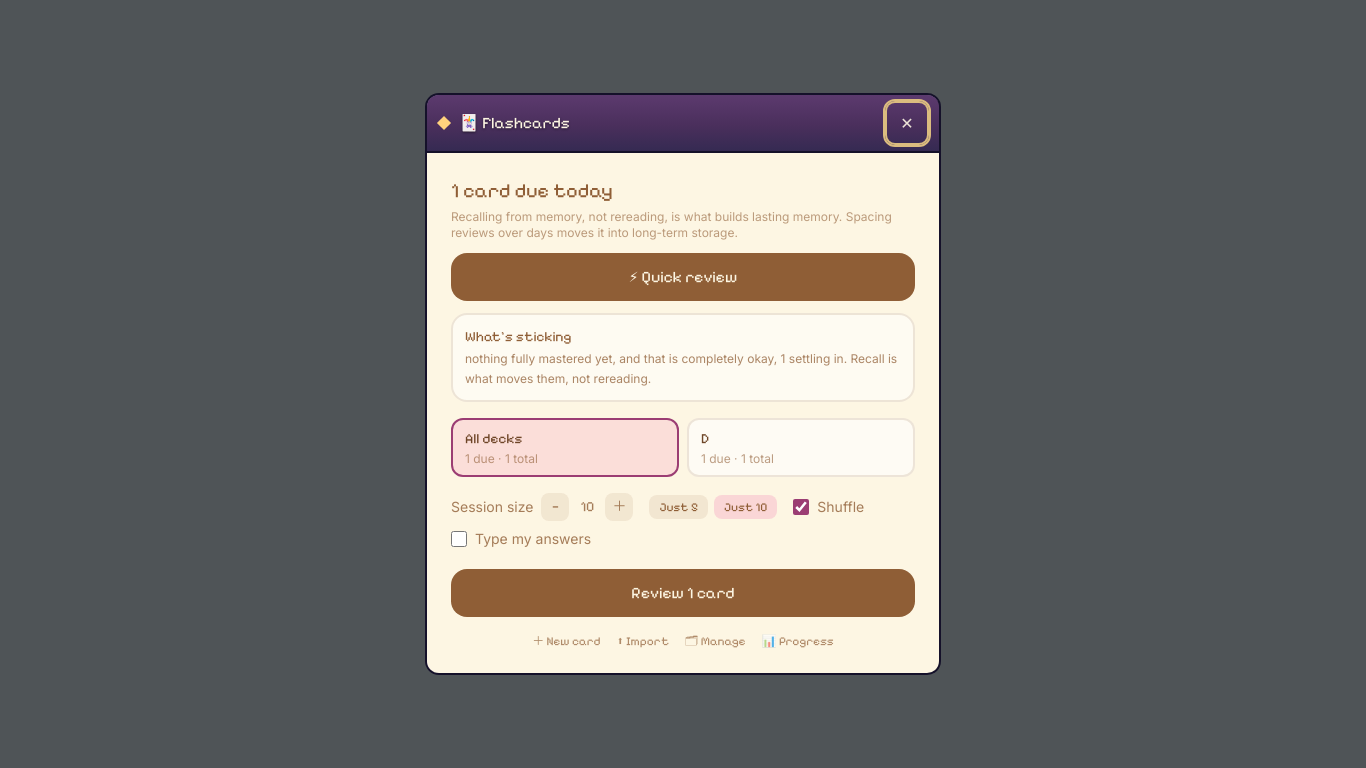
Test: Flashcards — typed recall + cloze (recall depth) › a wrong typed answer is marked wrong (honestly) and reveals the answer
Click the checkbox labelled "Type my answers" at (459,539), box x1=451 y1=531 x2=467 y2=547
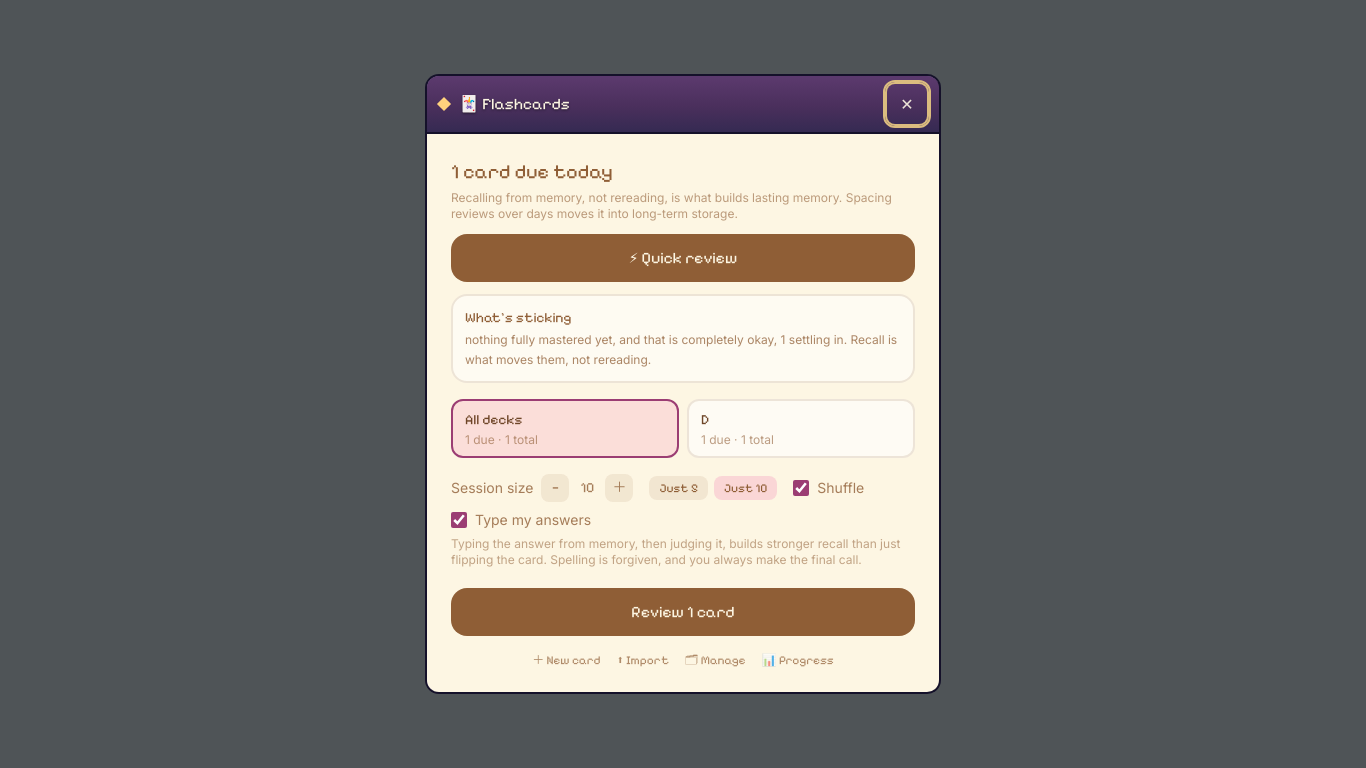
Click the checkbox labelled "Shuffle" at (801,488), box x1=793 y1=480 x2=809 y2=496
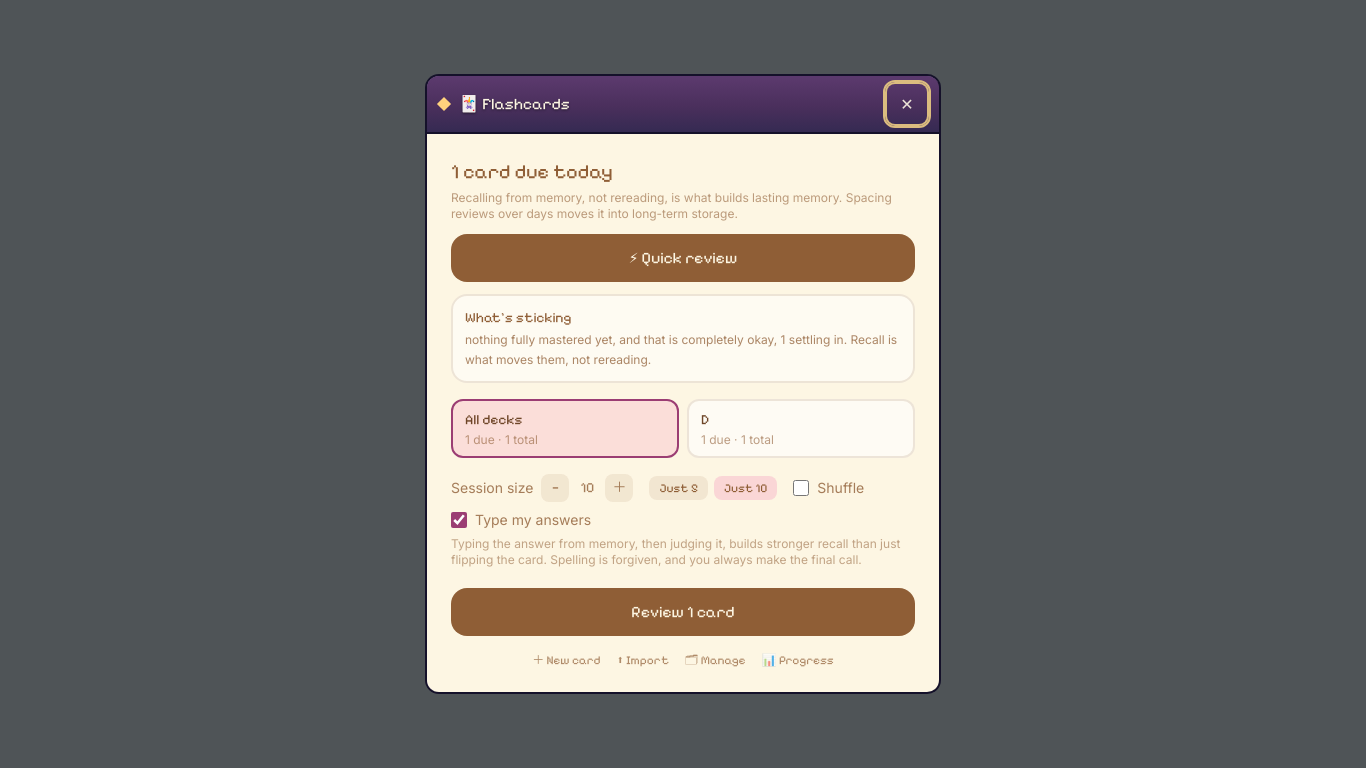
Click the button "Review 1 card" at (683,612), box x1=451 y1=588 x2=915 y2=636
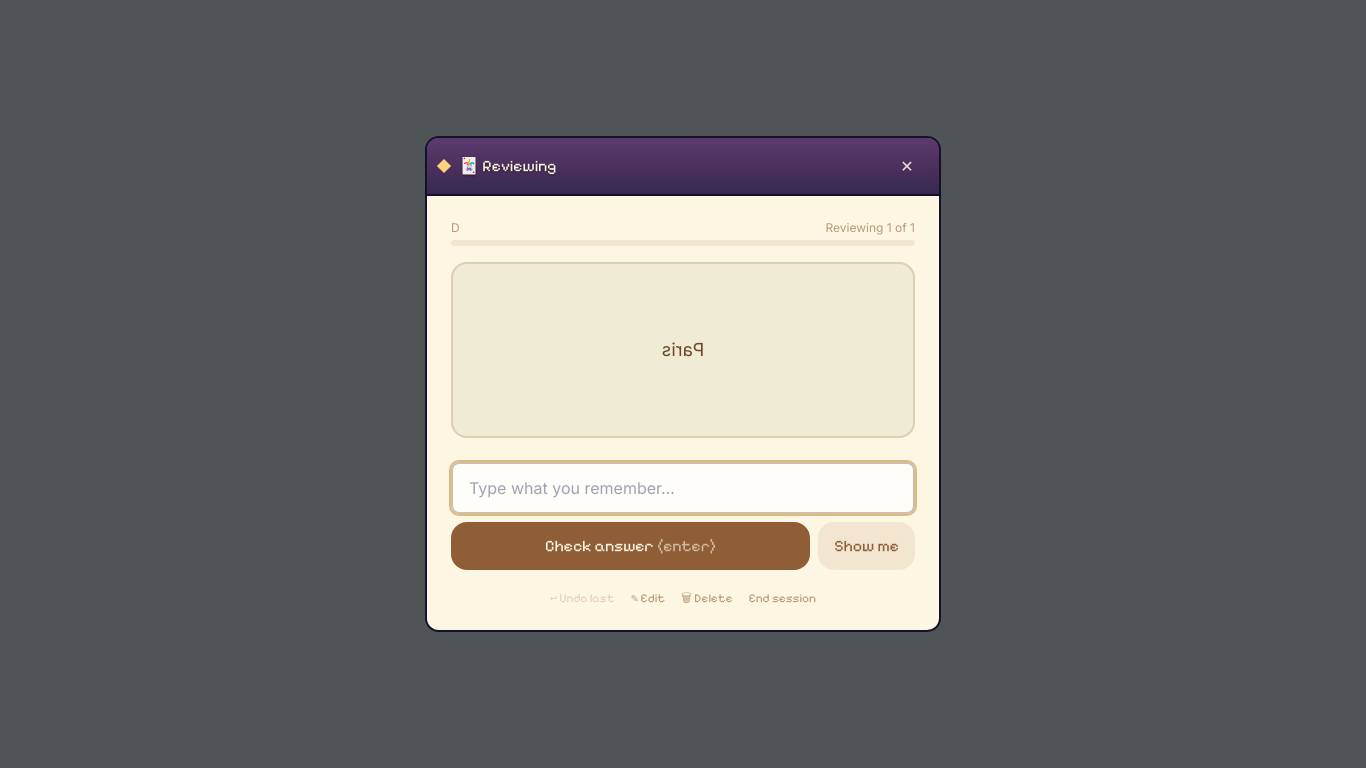
Type "London" into the field named "type your answer" at (683,488), box x1=451 y1=462 x2=915 y2=514
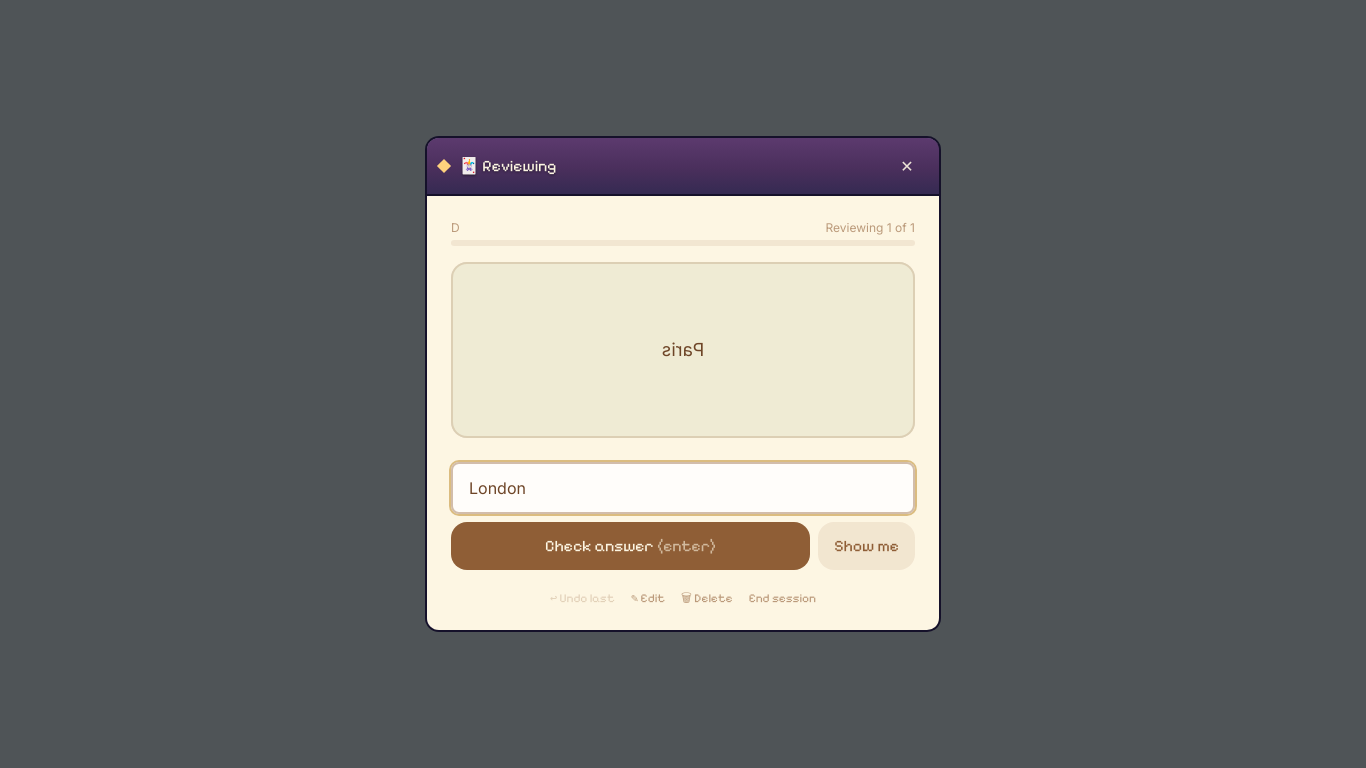
Click the button "Check answer (enter)" at (631,546), box x1=451 y1=522 x2=810 y2=570
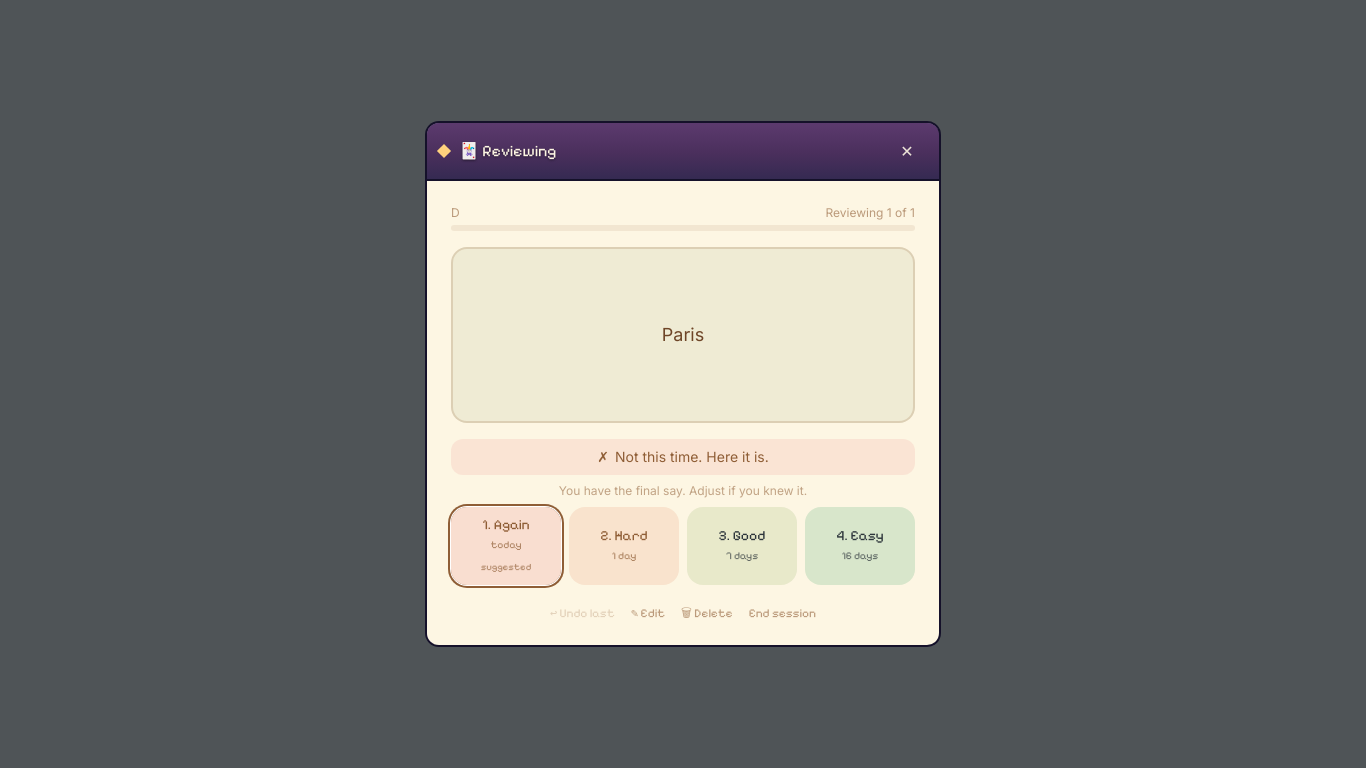
Expected: the text "Paris" is shown, x1=662 y1=320 x2=704 y2=350
Expected: the text "Not this time. Here it is." is shown, x1=615 y1=447 x2=769 y2=467
